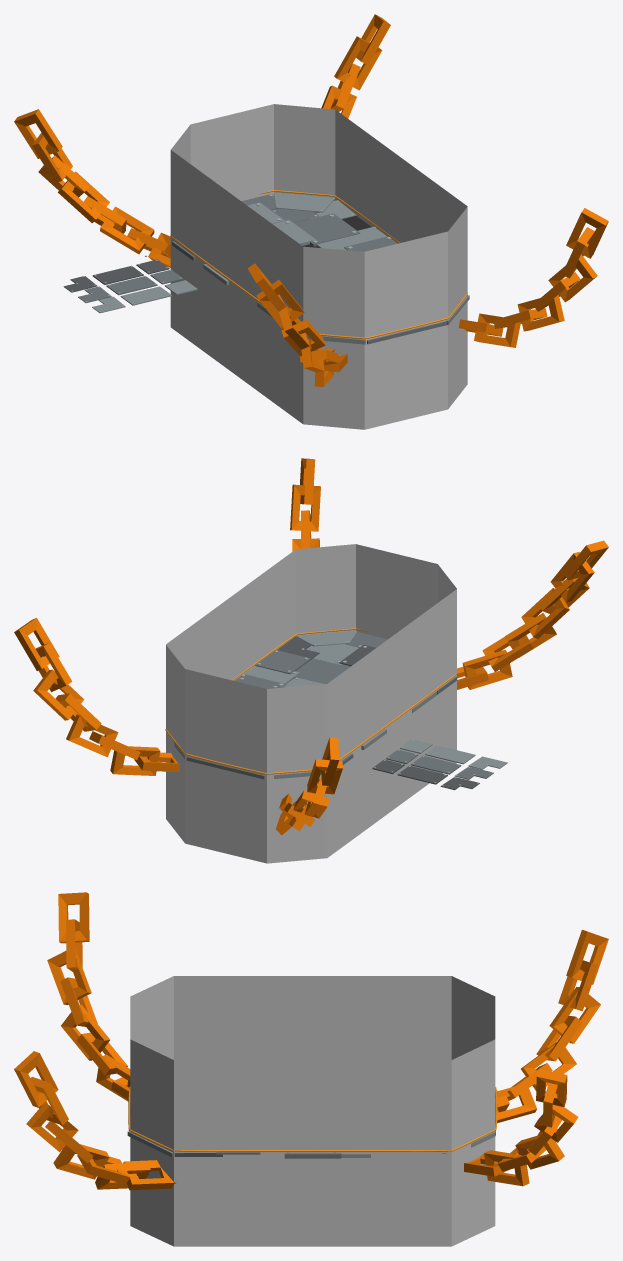
The model's file is UndergroundFieldTest.fbx.
The picture shows the model from 3 angles, top to bottom: view 1: azimuth 30°, elevation 25°; view 2: azimuth 150°, elevation 25°; view 3: azimuth 270°, elevation 25°; orthographic projection. The views are drawn at different scales.
Parts seen in each view (by area): view 1: WallVisuals, ArenaGround, Cube.004, Cube.002, Cube.001, Cube.003, MetalSlab.032, ArenaOutline, MetalSlab.008; view 2: WallVisuals, ArenaGround, Cube.003, Cube.001, Cube.004, Cube.002, ArenaOutline, MetalSlab.038, MetalSlab.039, MetalSlab.040, MetalSlab.006; view 3: WallVisuals, ArenaGround, Cube.002, Cube.001, Cube.004, Cube.003, ArenaOutline.
Boxes of the visible parts, x1,y1,x2,y2 form: WallVisuals: (170,104,467,342); ArenaGround: (170,216,467,429); Cube.004: (14,109,170,267); Cube.002: (458,208,608,347); Cube.001: (247,263,347,386); Cube.003: (321,14,390,118); MetalSlab.032: (294,213,360,246); ArenaOutline: (170,190,467,339); MetalSlab.008: (274,192,335,213); WallVisuals: (166,544,456,778); ArenaGround: (166,681,456,863); Cube.003: (14,618,179,775); Cube.001: (457,540,608,689); Cube.004: (276,737,342,835); Cube.002: (290,458,320,551); ArenaOutline: (165,628,457,774); MetalSlab.038: (294,658,350,683); MetalSlab.039: (255,650,310,674); MetalSlab.040: (306,644,361,664); MetalSlab.006: (296,631,357,646); WallVisuals: (130,976,495,1155); ArenaGround: (130,1137,495,1246); Cube.002: (14,1051,176,1190); Cube.001: (47,892,130,1101); Cube.004: (497,929,608,1122); Cube.003: (464,1068,578,1186); ArenaOutline: (128,1086,497,1151).
Bounding box in the file's own units: 1992 × 1036 × 2491.
